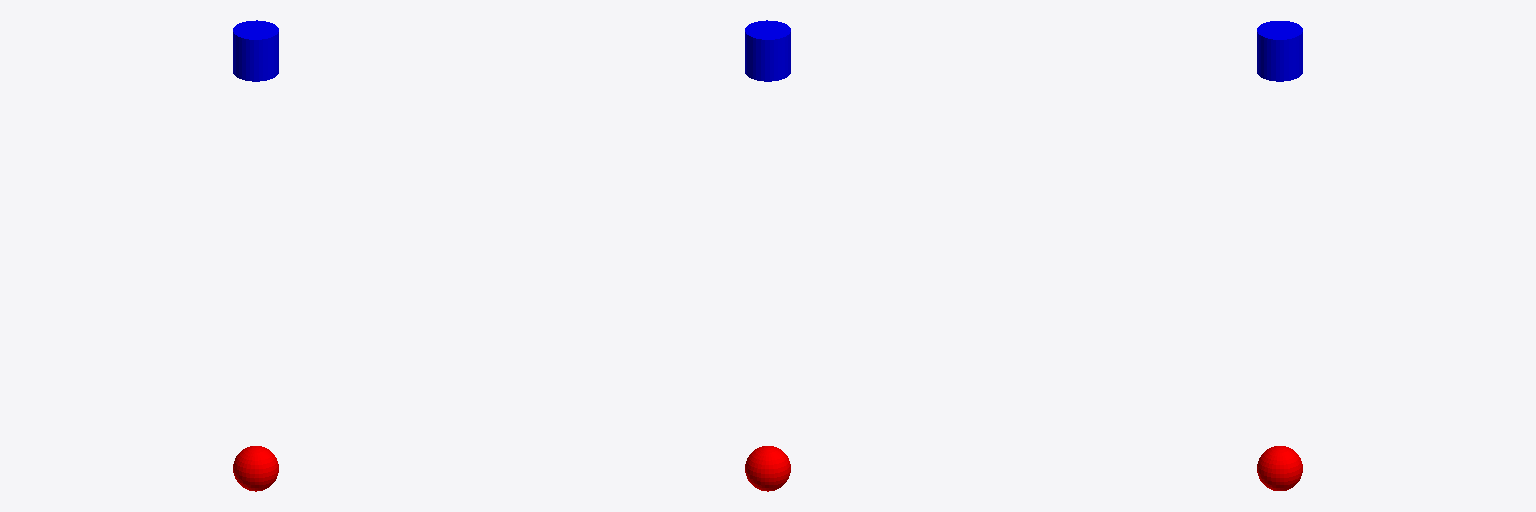
URDF robot description (simple_pendulum):
<?xml version="1.0"?>
<robot name="simple_pendulum">
    <material name="blue">
      <color rgba="0 0 1 1"/>
    </material>

    <material name="red">
      <color rgba="1 0 0 1"/>
    </material>

    <material name="green">
      <color rgba="0 1 0 1"/>
    </material>

  <!-- 基座链接 -->
  <link name="base_link">
    <visual>
      <geometry><cylinder length="0.1" radius="0.05"/></geometry>
      <material name="blue"/>
    </visual>
    <inertial>
      <mass value="1.0"/>
      <inertia ixx="0.001" ixy="0.0" ixz="0.0" iyy="0.001" iyz="0.0" izz="0.001"/>
    </inertial>
  </link>

  <!-- 摆锤链接（包含摆杆质量） -->
  <link name="pendulum_bob">
    <visual>
      <geometry><sphere radius="0.05"/></geometry>
      <material name="red"/>
      <origin xyz="0 0 -1.0" rpy="0 0 0"/>  <!-- 摆锤在悬挂点下方1米 -->
    </visual>
    <inertial>
      <mass value="0.6"/>  <!-- 摆杆质量 + 摆锤质量 -->
      <origin xyz="0 0 -1.0"/>
      <inertia ixx="0.01" ixy="0.0" ixz="0.0" iyy="0.01" iyz="0.0" izz="0.01"/>
    </inertial>
  </link>

  <!-- 转动关节 -->
  <joint name="pendulum_joint" type="revolute">
    <parent link="base_link"/>
    <child link="pendulum_bob"/>
    <origin xyz="0 0 0" rpy="0 0 0"/>
    <axis xyz="0 1 0"/>
    <limit lower="-3.14" upper="3.14" effort="10.0" velocity="10.0"/>
  </joint>

  <!-- TCP frame at the bottom of the pendulum bob -->
  <frame name="link_tcp" link="pendulum_bob" xyz="0 0 -1.0" rpy="0 0 0"/>

</robot>

--- Render facts (derived) ---
Views: 3 orthographic renders of the robot side by side, from view 1: azimuth 30°, elevation 25°; view 2: azimuth 150°, elevation 25°; view 3: azimuth 270°, elevation 25°.
Robot: simple_pendulum — 2 links, 1 joints (1 revolute); root link base_link; default pose: all joints at 0.
Links seen in each view (by area): view 1: base_link, pendulum_bob; view 2: base_link, pendulum_bob; view 3: base_link, pendulum_bob.
Link boxes in pixels (bbox=[...]): base_link: bbox=[233, 20, 278, 81]; pendulum_bob: bbox=[233, 446, 278, 491]; base_link: bbox=[745, 20, 790, 81]; pendulum_bob: bbox=[745, 446, 790, 491]; base_link: bbox=[1257, 21, 1302, 81]; pendulum_bob: bbox=[1257, 446, 1302, 490].
Size in the robot's own frame: 0.1 by 0.1 by 1.1 metres.
Geometry: primitives only (box / cylinder / sphere), no mesh files.
